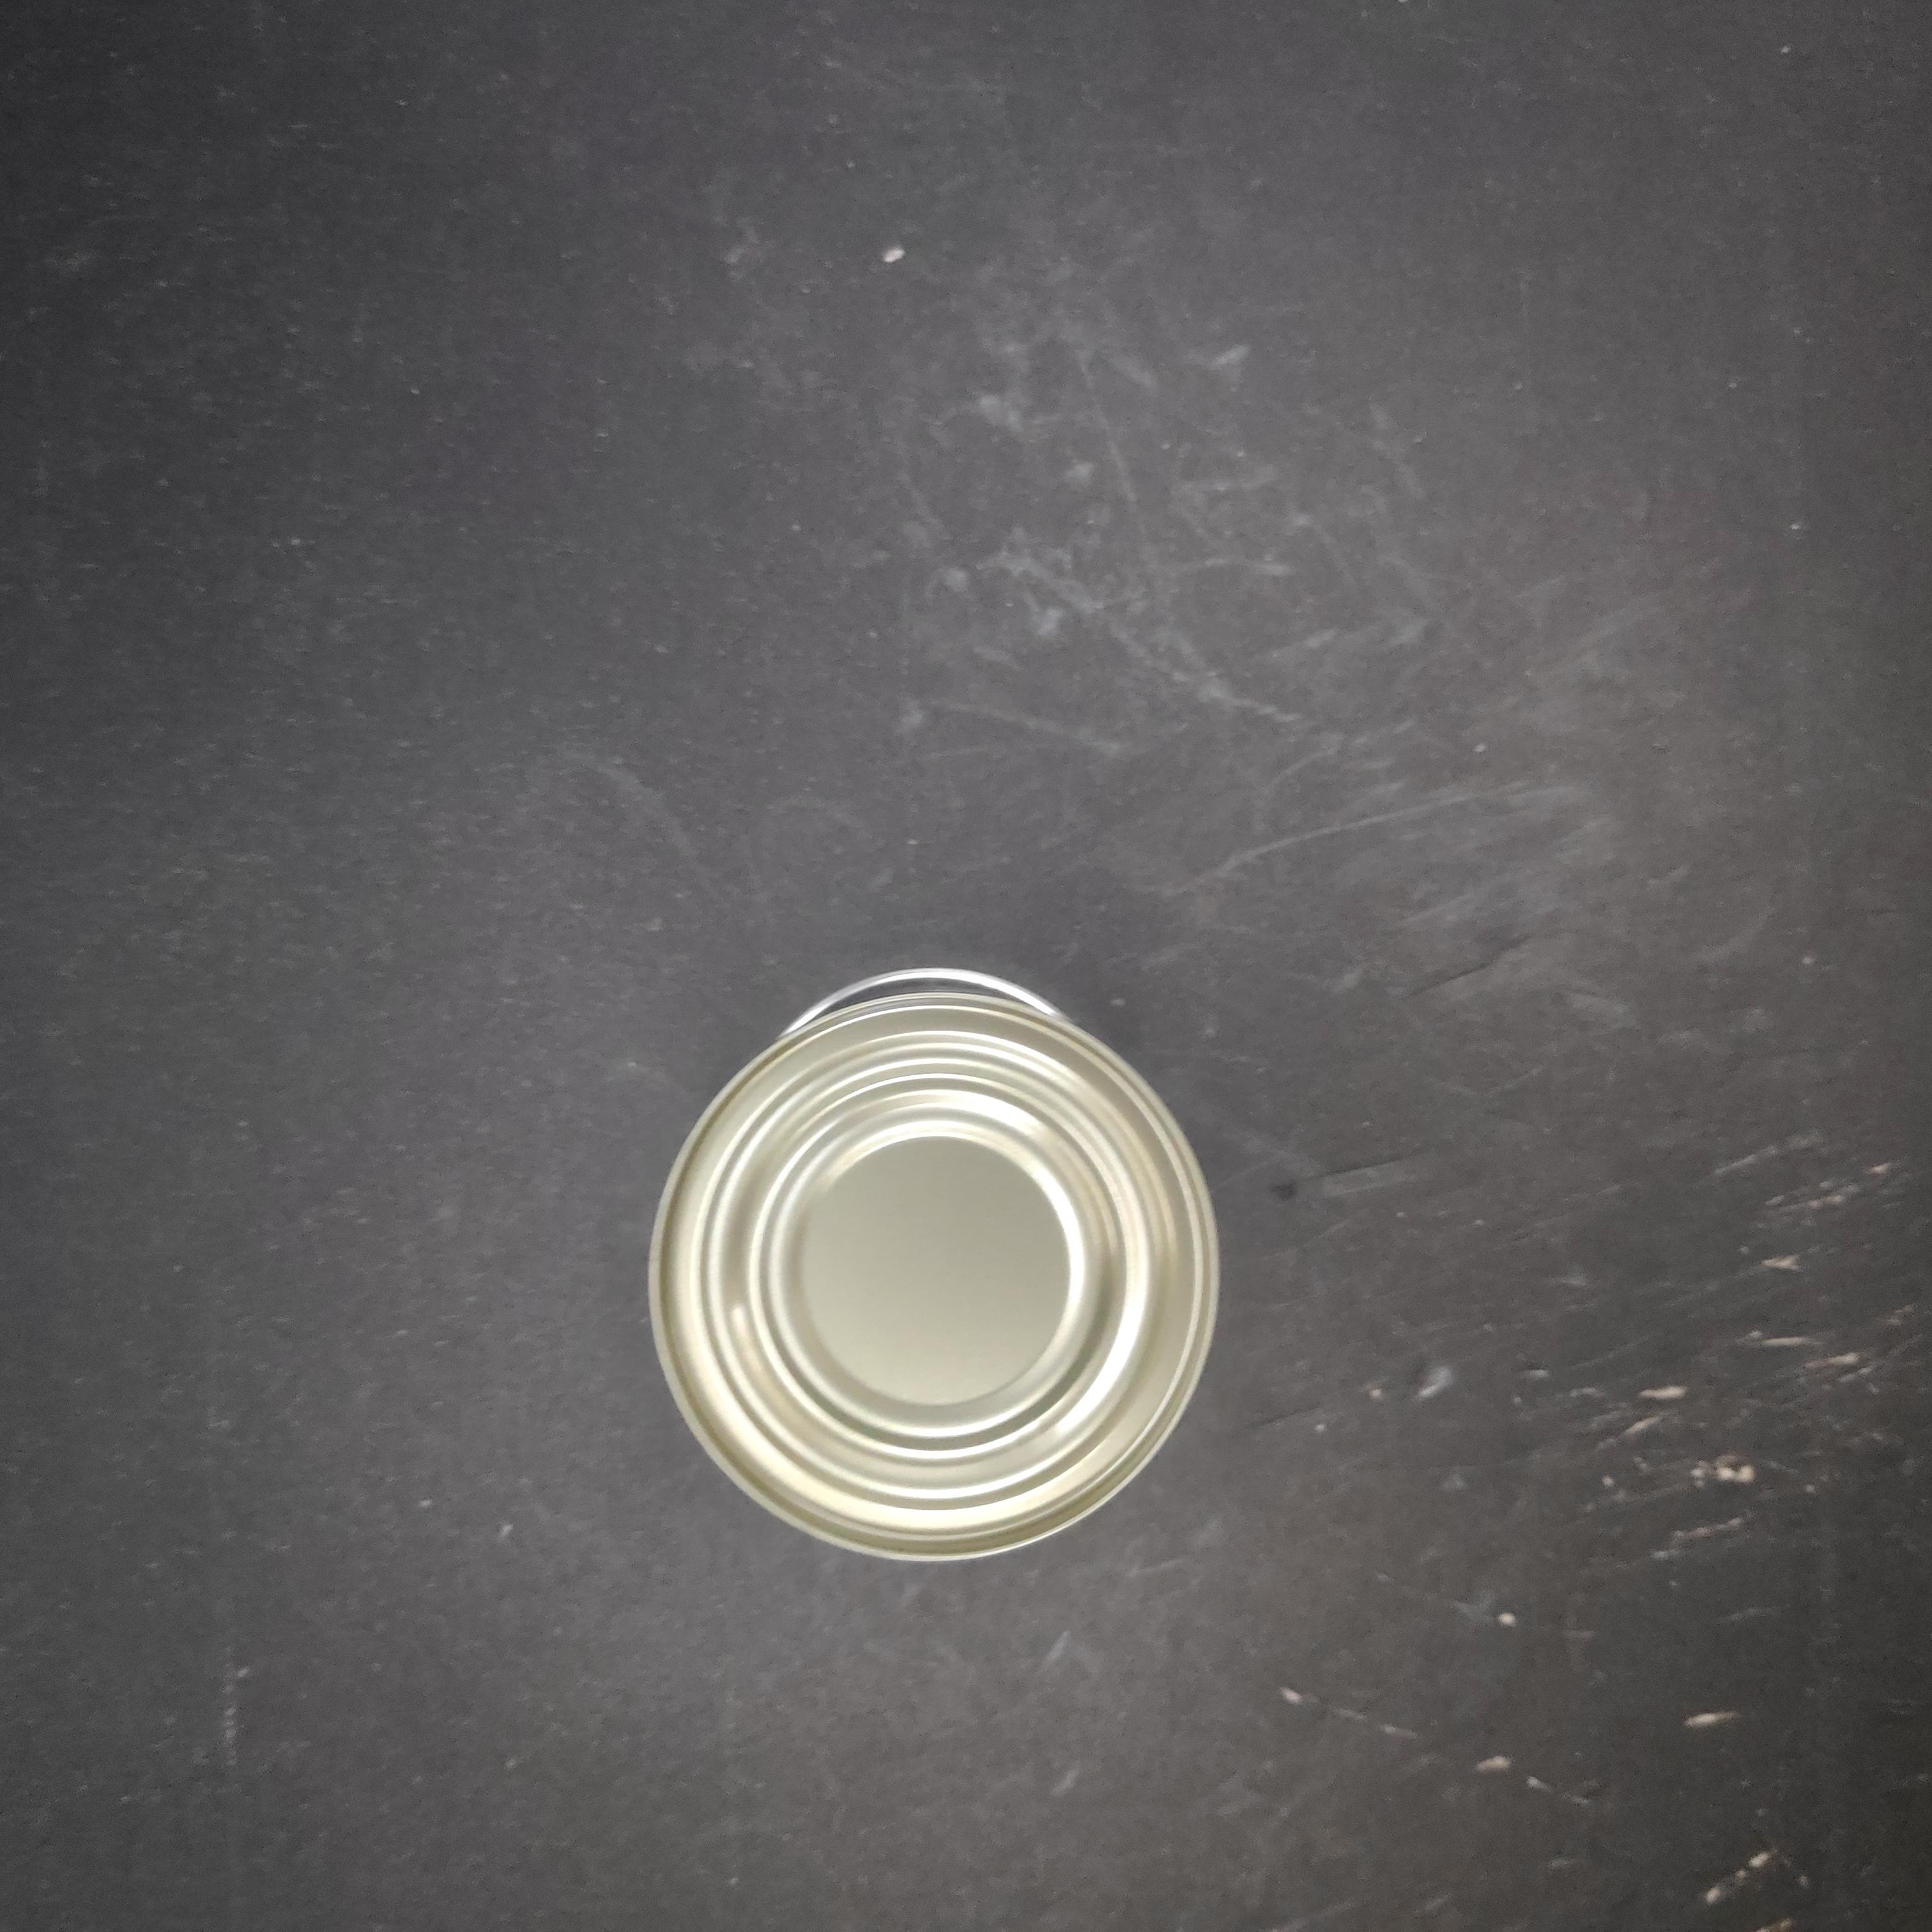No defect: (356, 633, 943, 1235)
